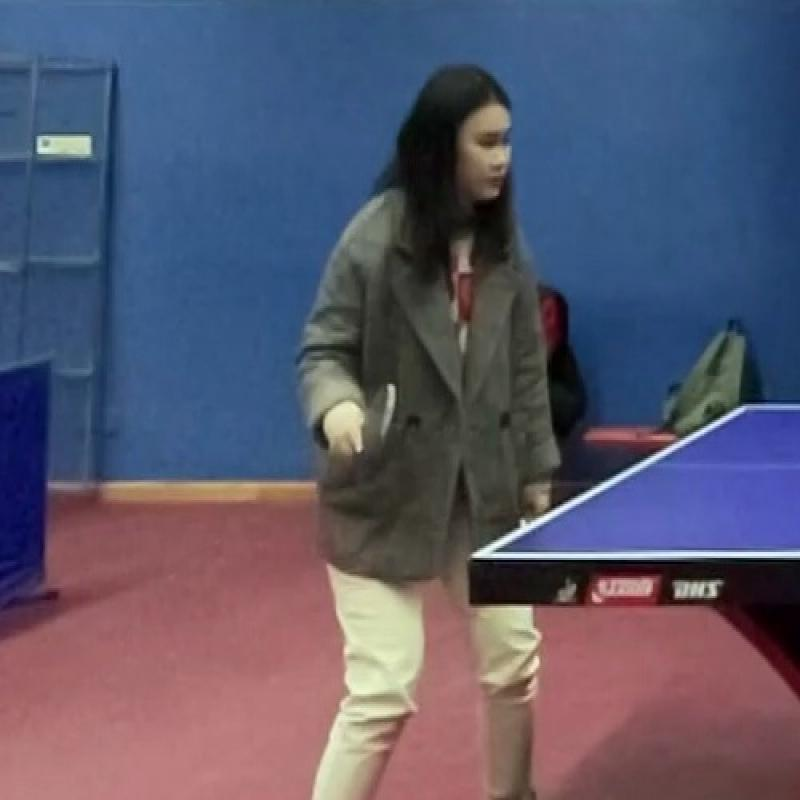bats: (323, 373, 416, 483)
